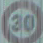Speed limit: (3, 1, 39, 42)
